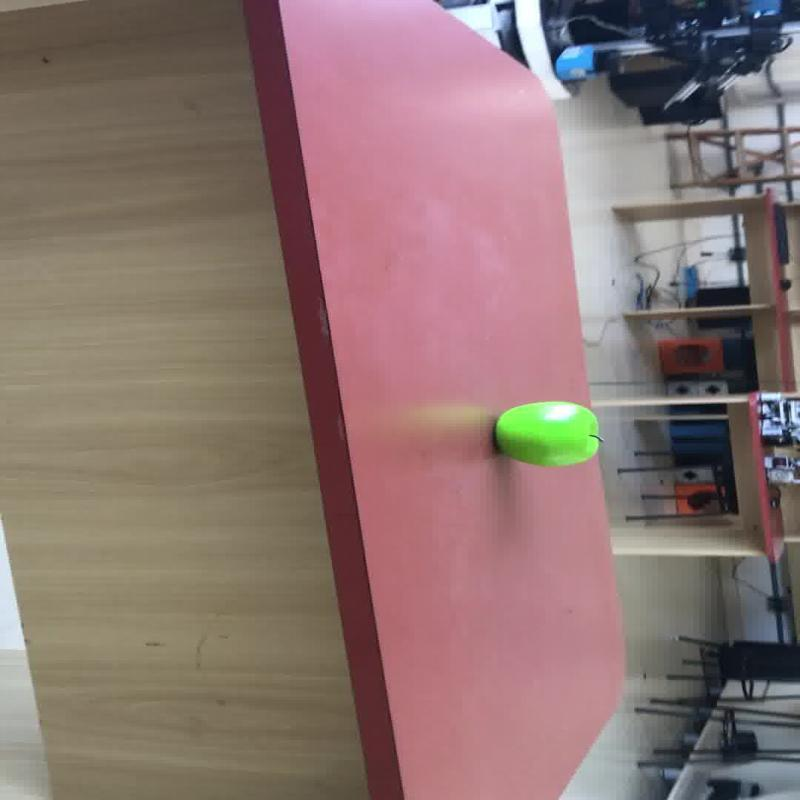apple: (492, 400, 602, 467)
